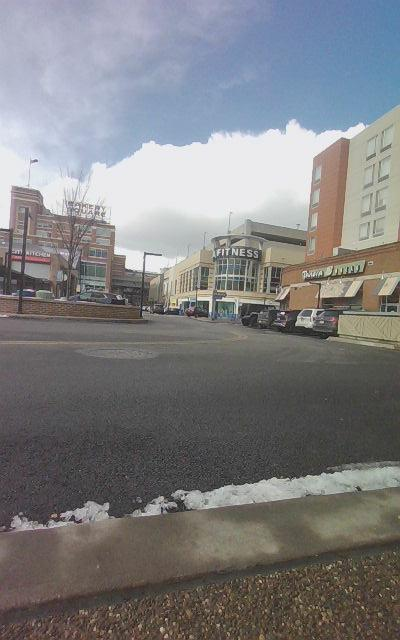curb: (0, 488, 399, 639)
road: (0, 316, 399, 530)
